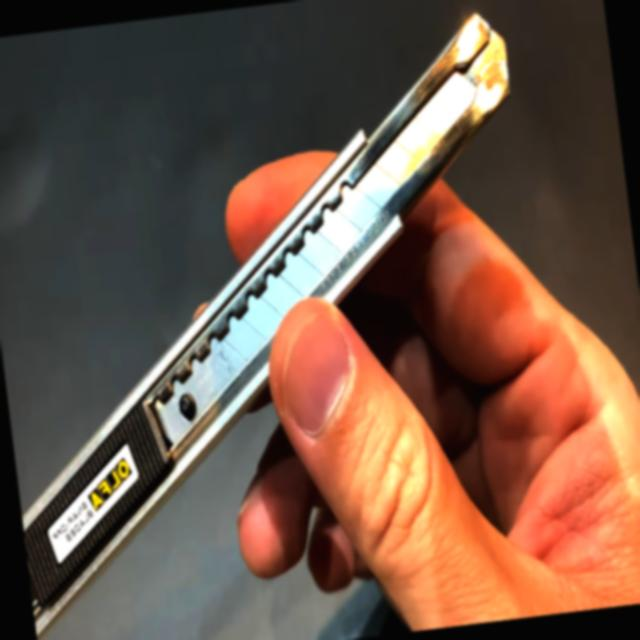cutter: (0, 5, 579, 635)
